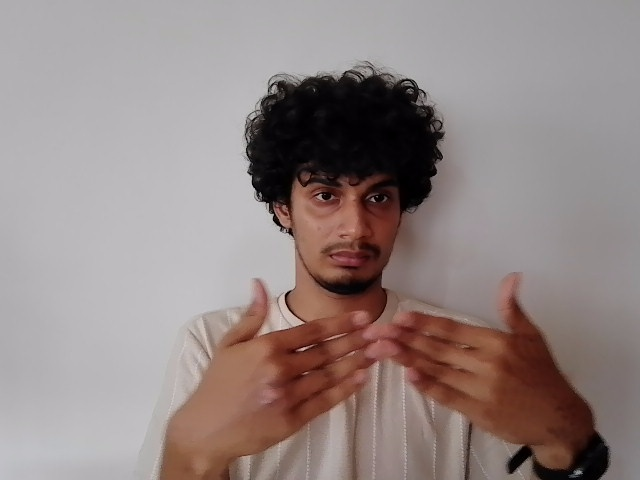family: (157, 270, 594, 454)
